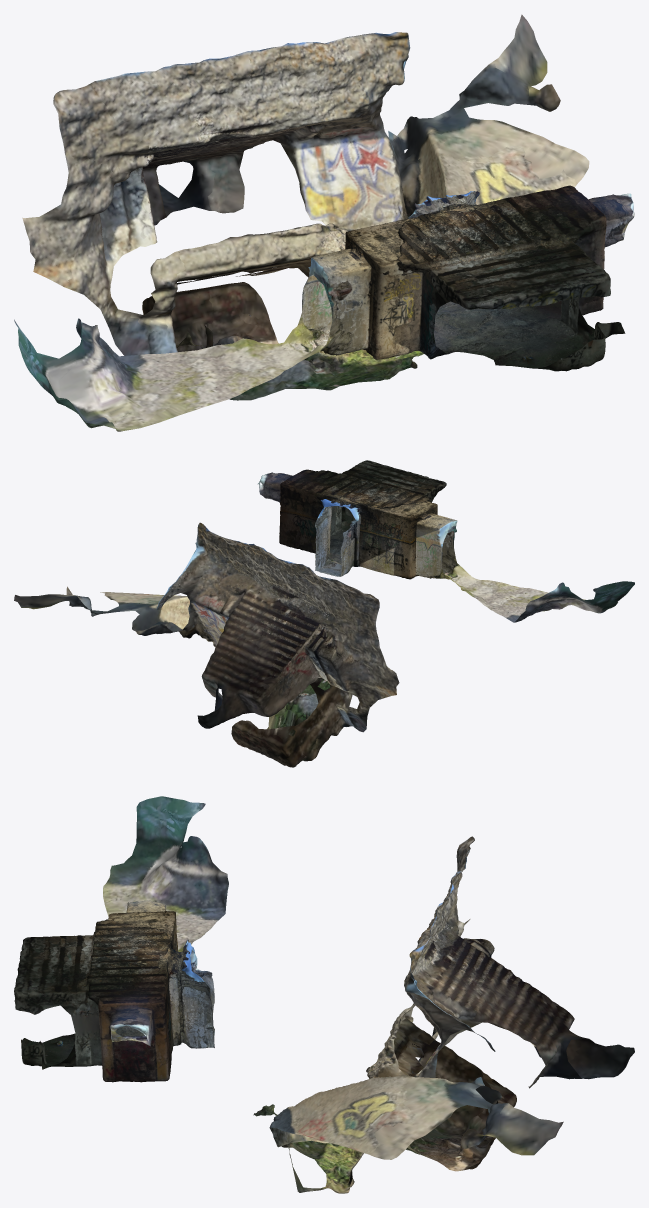
3 renders of one model, top to bottom at view 1: azimuth 30°, elevation 25°; view 2: azimuth 150°, elevation 25°; view 3: azimuth 270°, elevation 25°, orthographic. The views are drawn at different scales.
Parts seen in each view (by area): view 1: 3DModel; view 2: 3DModel; view 3: 3DModel.
Part boxes in pixels (<box>): 3DModel: <box>14,14,634,431</box>; 3DModel: <box>14,460,634,767</box>; 3DModel: <box>14,796,634,1193</box>.
Size of the model in its own units: 13.02 by 5.19 by 11.08.
Materials: 1 (1 with a texture image).
